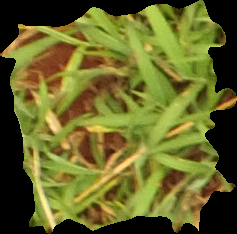grass: (1, 1, 236, 232)
